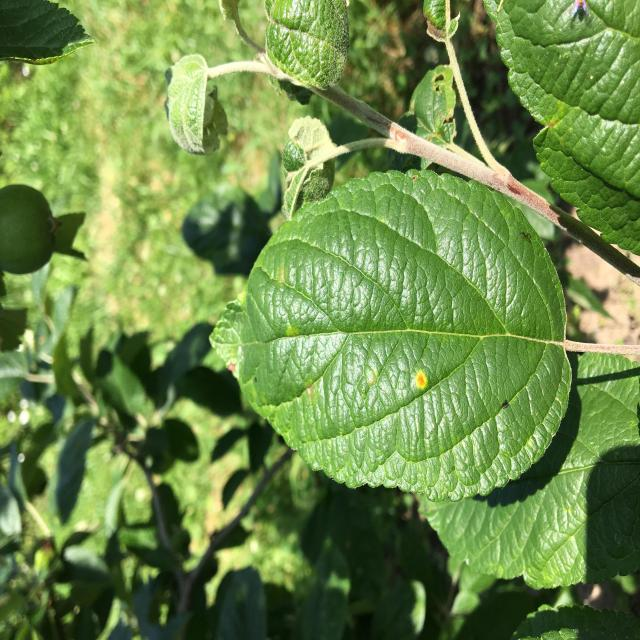rust: (209, 169, 571, 503)
